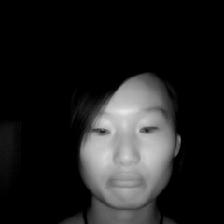sad: (40, 40, 188, 217)
